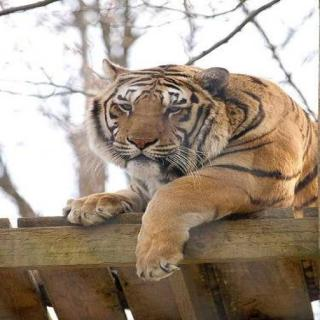Tiger: (57, 50, 320, 279)
